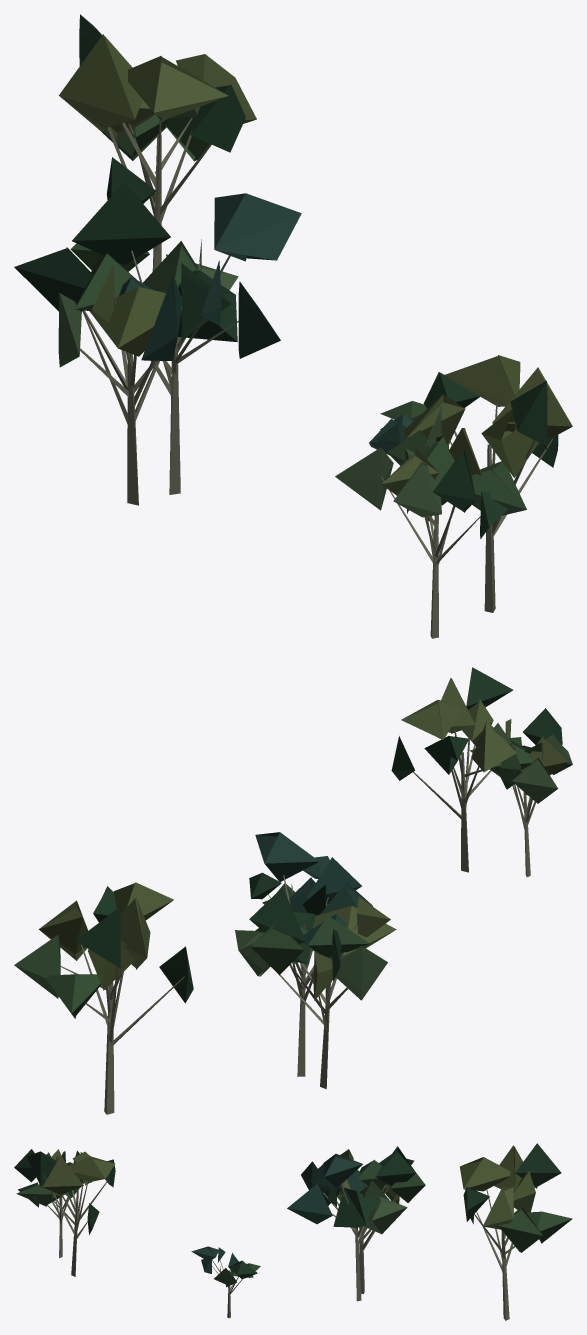
File: forest_16_26.dae
The picture shows the model from 3 angles, top to bottom: view 1: azimuth 30°, elevation 25°; view 2: azimuth 150°, elevation 25°; view 3: azimuth 270°, elevation 25°; orthographic projection. The views are drawn at different scales.
Visible parts, largest first — view 1: Node; view 2: Node; view 3: Node.
Part boxes in pixels (x1,y1,x2,y2): Node: [14, 14, 572, 638]; Node: [14, 667, 572, 1114]; Node: [14, 1143, 572, 1320].
Bounding box in the file's own units: 3.65 × 10.49 × 3.7.
